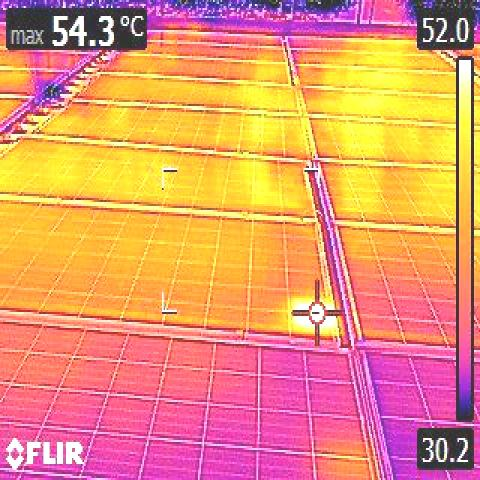fault: (294, 299, 328, 334)
